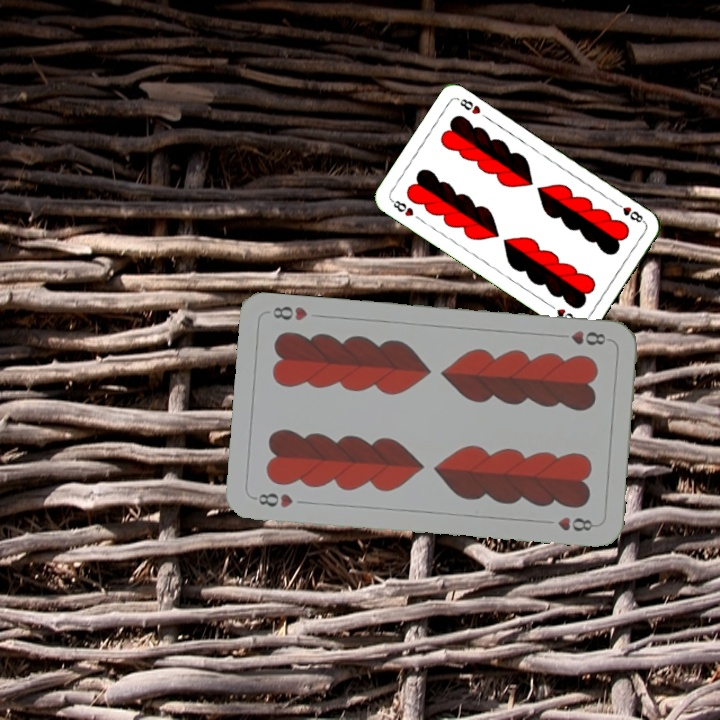H8: (553, 327, 609, 348), (611, 198, 648, 226), (250, 489, 296, 510), (387, 196, 416, 219)
